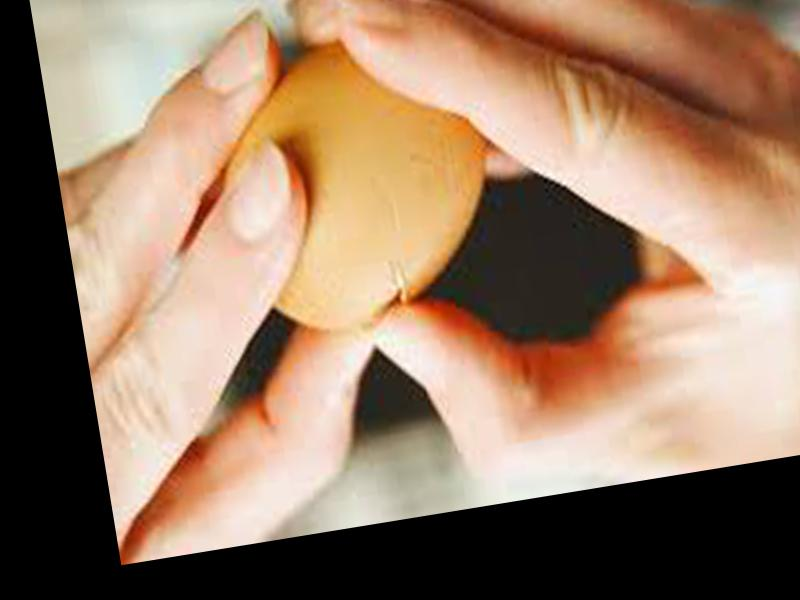Eggs: (201, 17, 509, 348)
